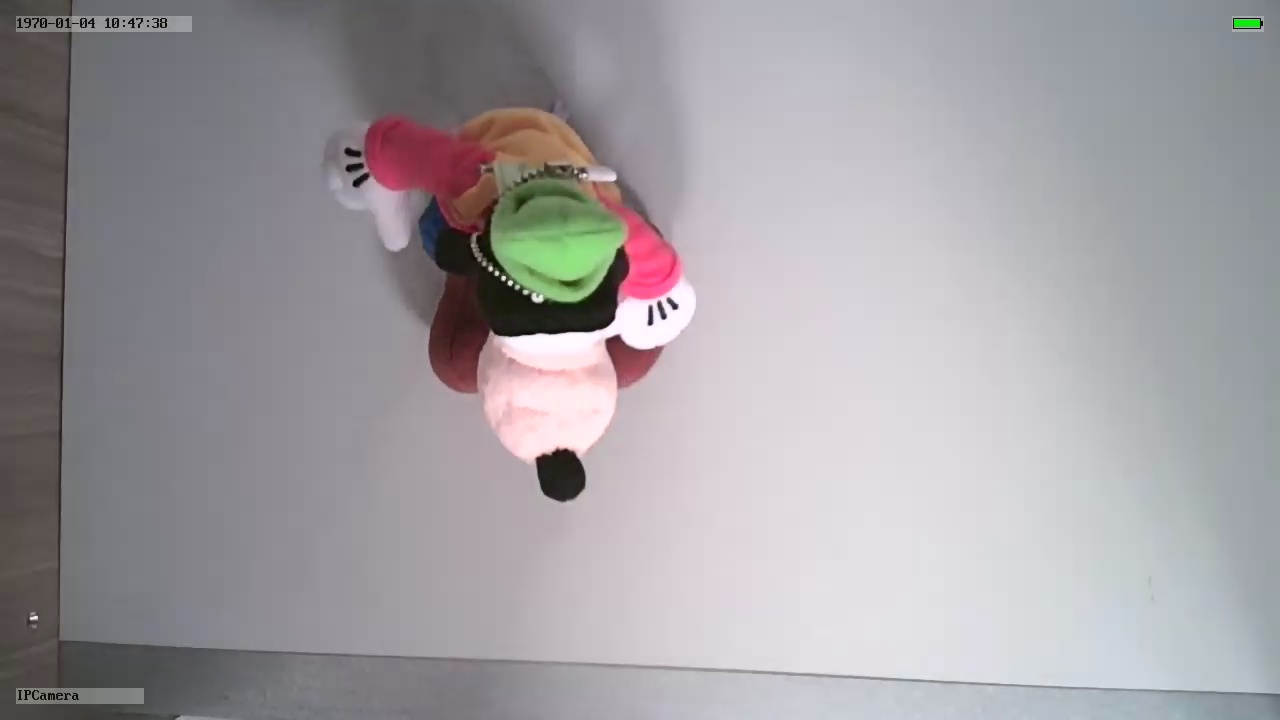goofy: (316, 100, 698, 498)
